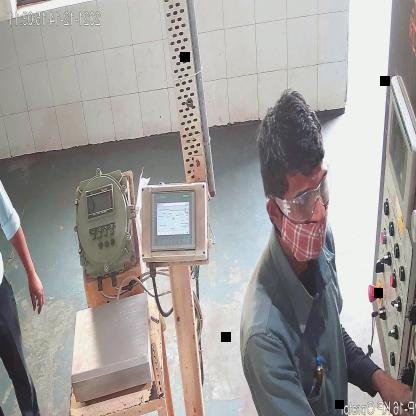goggles: (274, 172, 332, 218)
no_glove: (11, 214, 44, 317)
